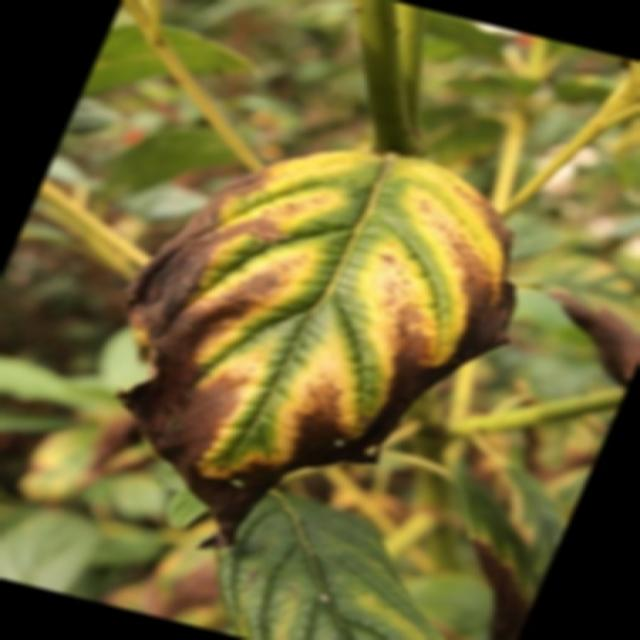Chlorosis: (132, 143, 508, 509)
